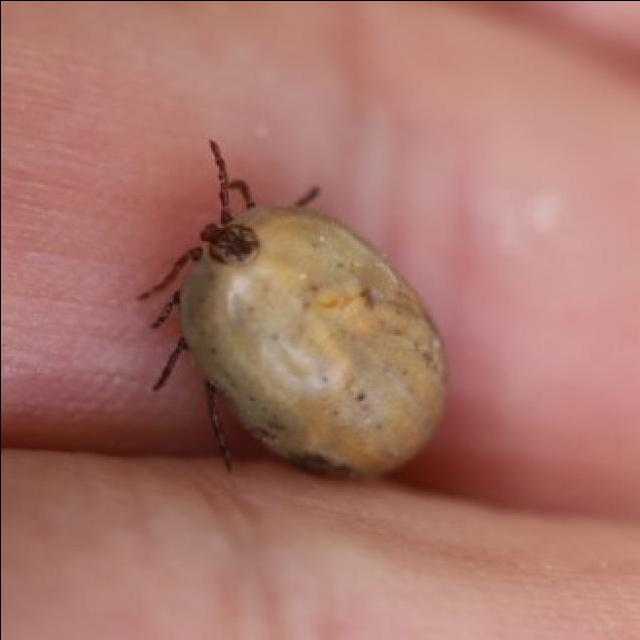Dermacentor Reticulatus-F-Fed: (132, 145, 447, 480)
